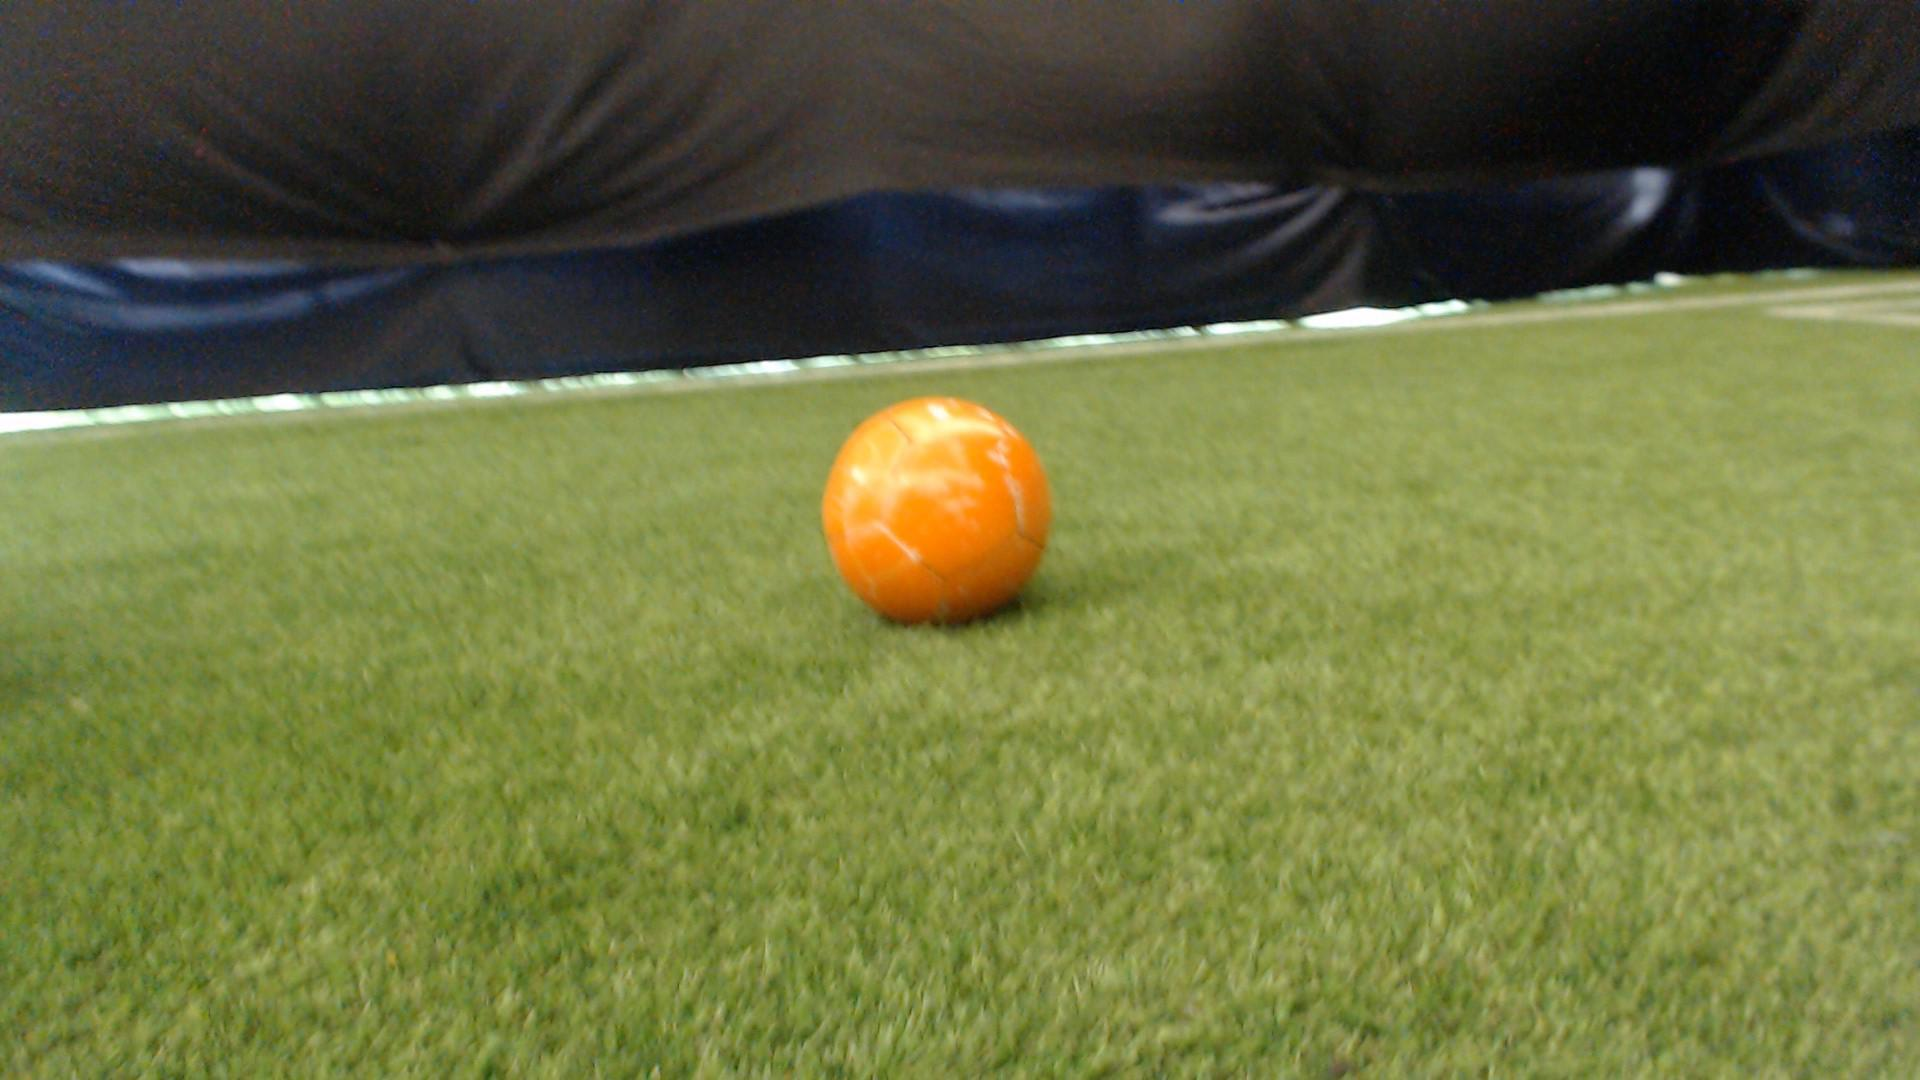bola: (807, 368, 1080, 641)
